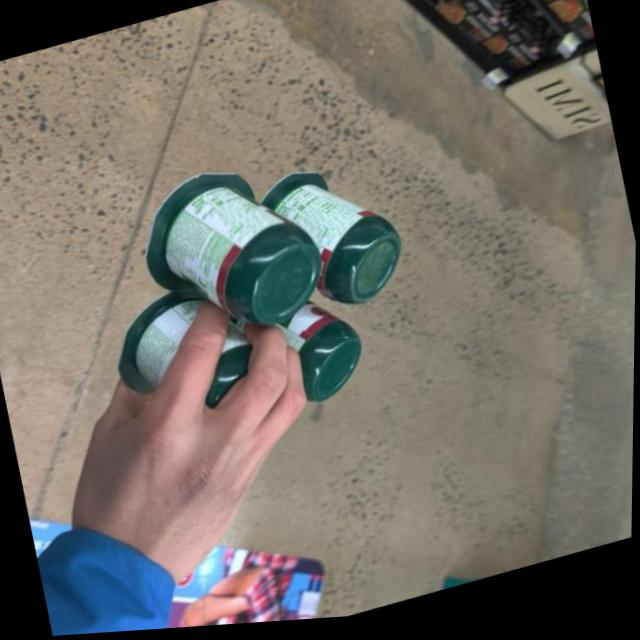Yogurt: (64, 93, 440, 482)
